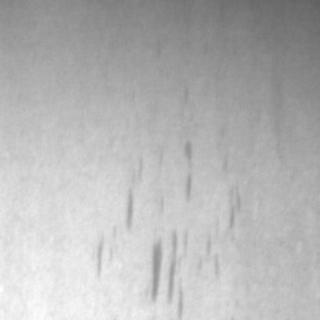inclusion: (146, 218, 194, 314), (90, 178, 138, 274), (176, 136, 204, 204)
